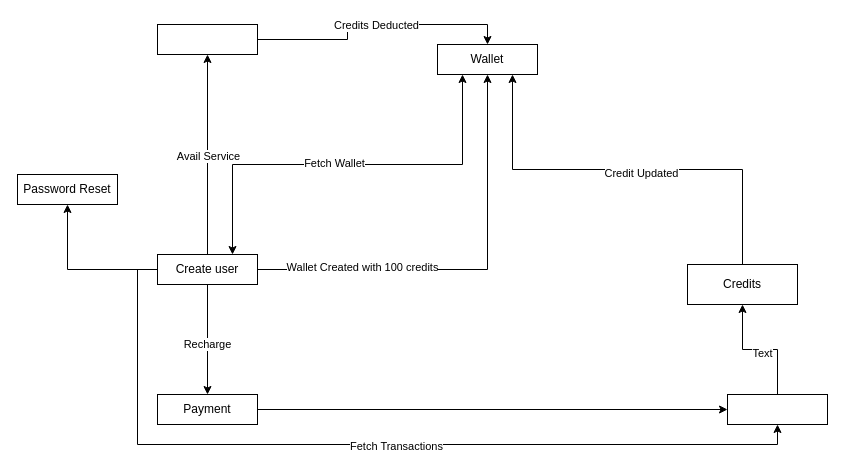
Image size: 845x470. Some labels were removed from this diagram. Each missing label, with the box of its shape:
Credit Consumed: (156, 24, 258, 54)
Transaction: (726, 394, 828, 424)
